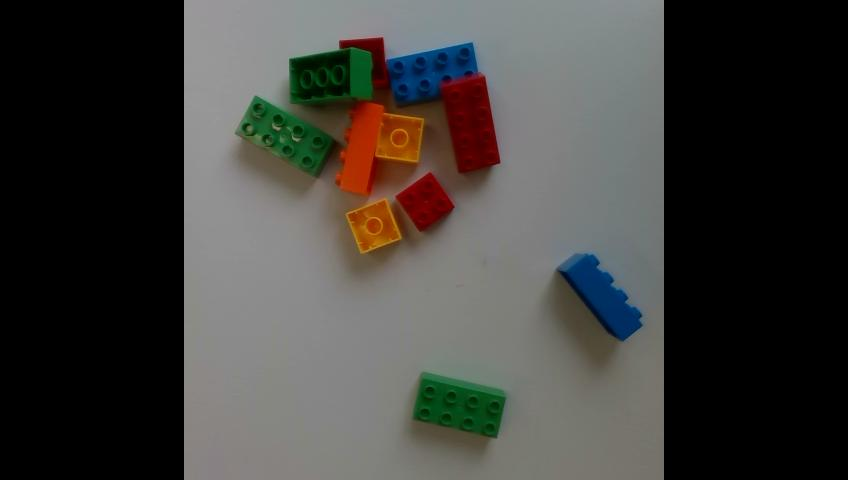2x2_red: (396, 171, 456, 231), (341, 35, 390, 85)
2x2_yellow: (345, 196, 401, 253), (374, 111, 425, 160)
4x2_blue: (557, 251, 645, 339), (386, 40, 478, 109)
4x2_green: (236, 93, 336, 177), (413, 369, 506, 439), (289, 46, 373, 103)
4x2_orange: (333, 97, 385, 197)
4x2_red: (441, 71, 499, 172)
